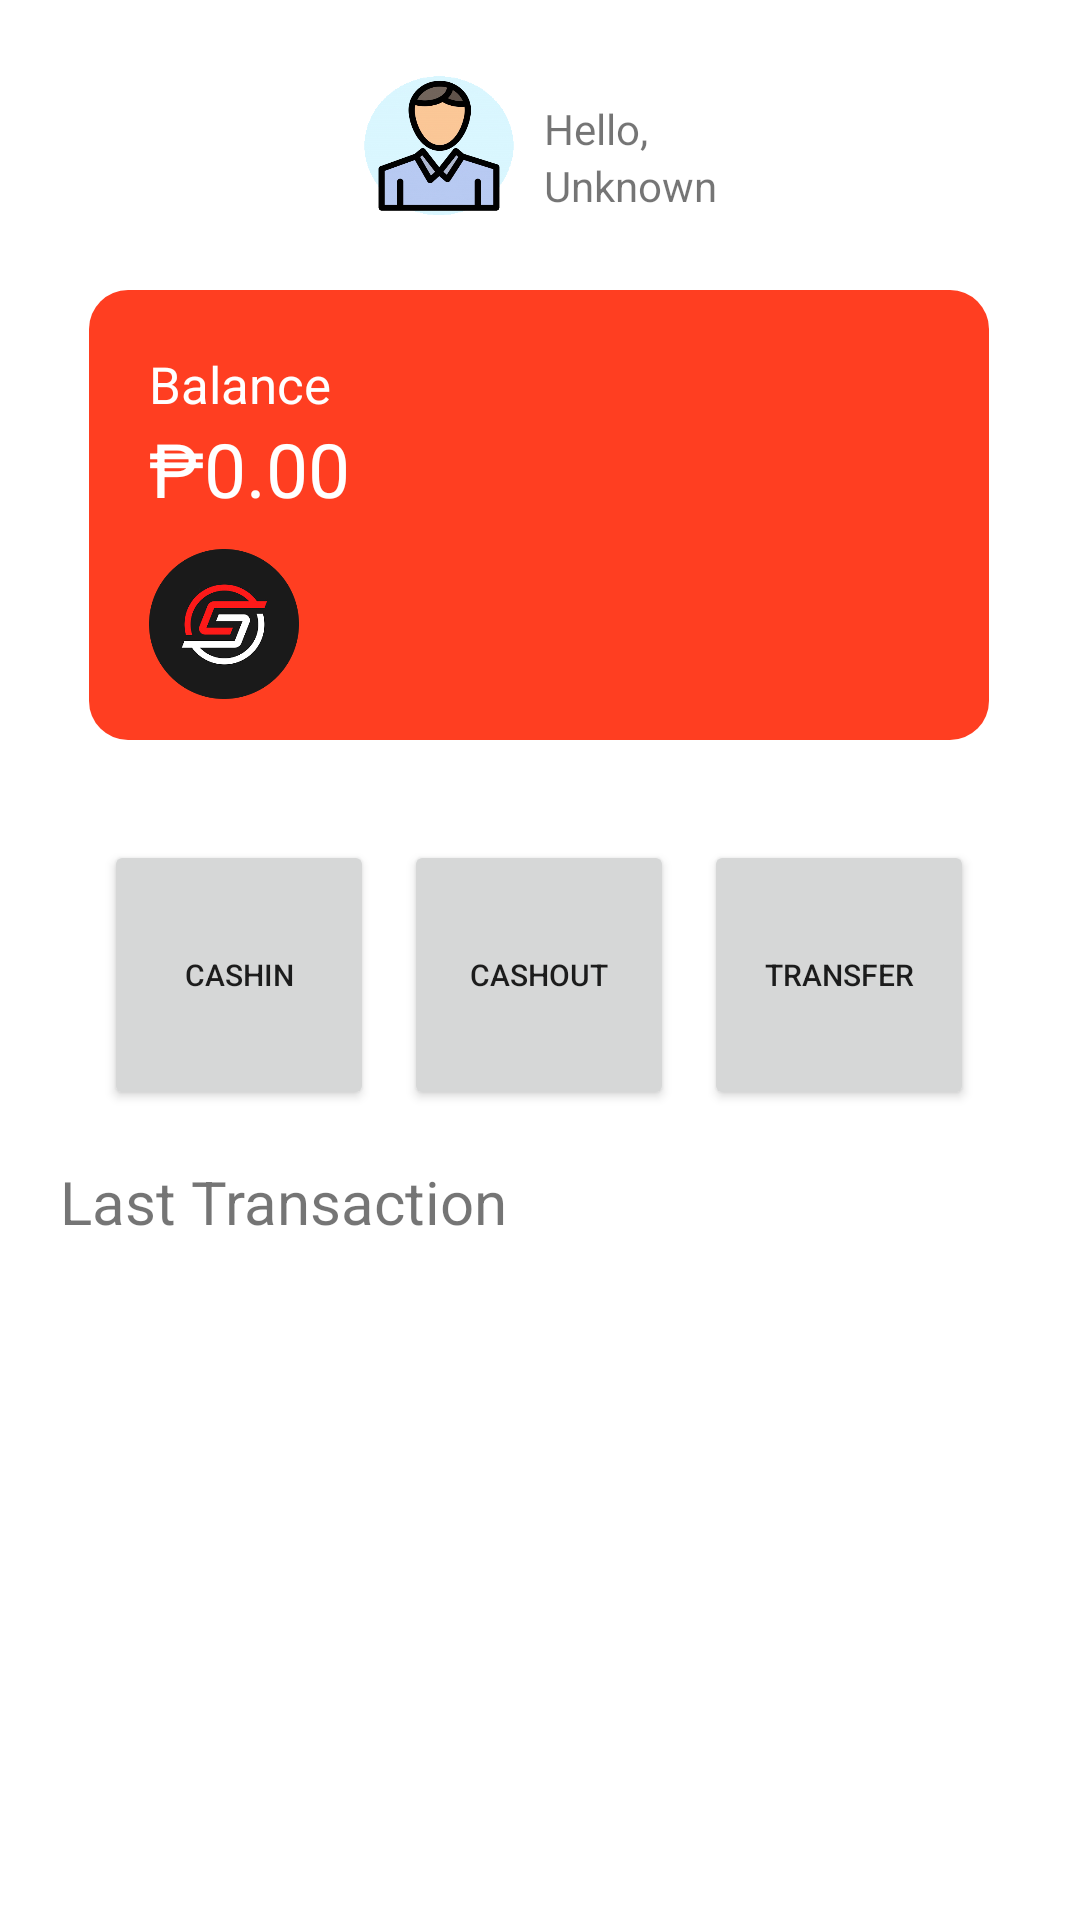

Icon bounding boxes for this 1080px x 1920px phone screenshot, format (x1, y1, x2, y2):
person: (364, 76, 514, 215)
